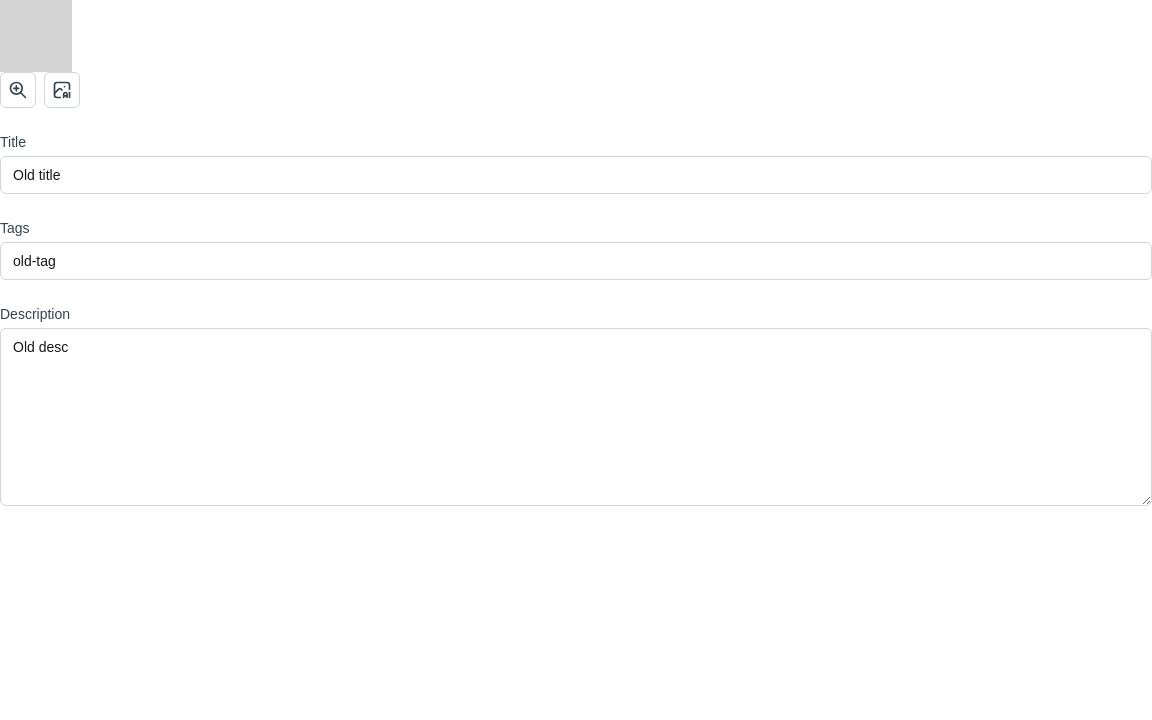
Scenario: ImageAiMetaSection › 成功后再点会重新打开确认，下拉为页面语言
Click the button named "AI recognize" at (62, 90), box [44,72,80,108]
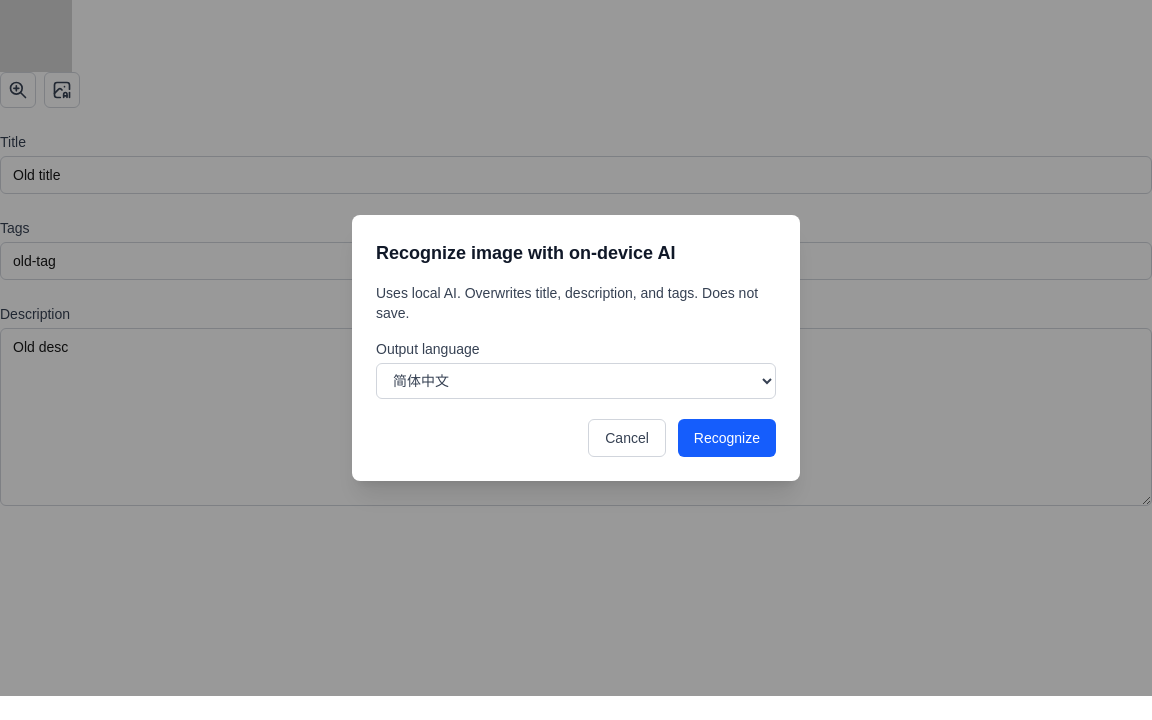
Select "English" in the dropdown labelled "Output language" at (576, 381), box [376,363,776,399]
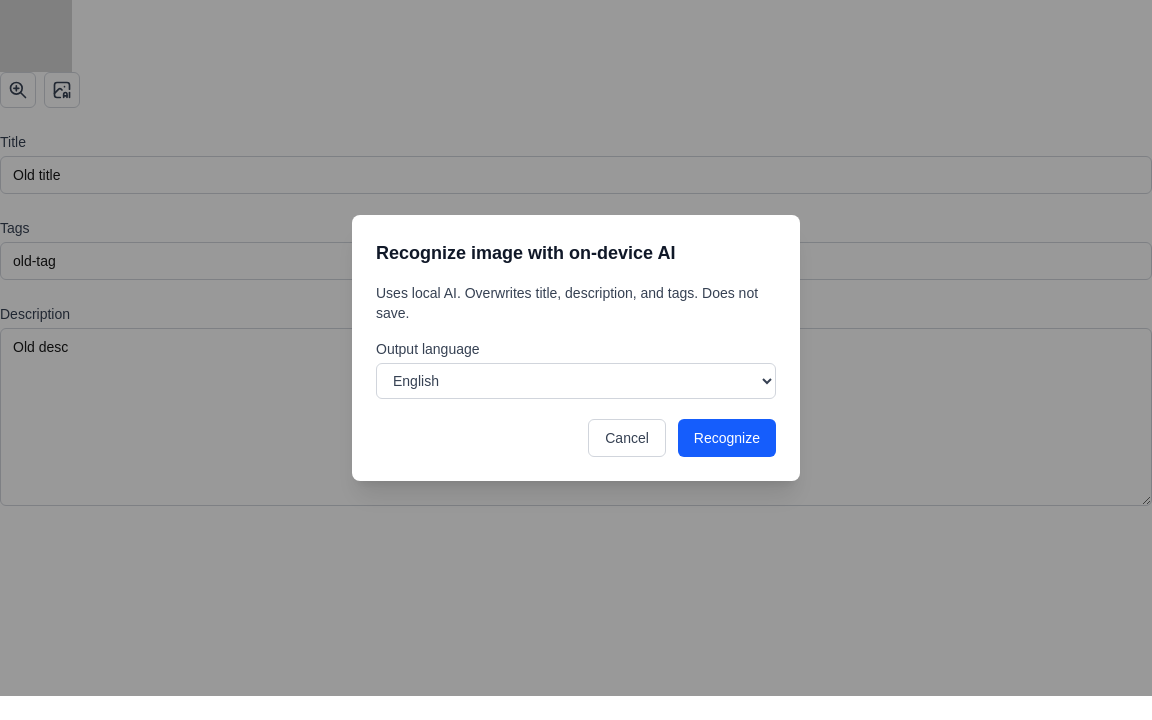
Click the button "Recognize" at (727, 438), box [678,419,776,457]
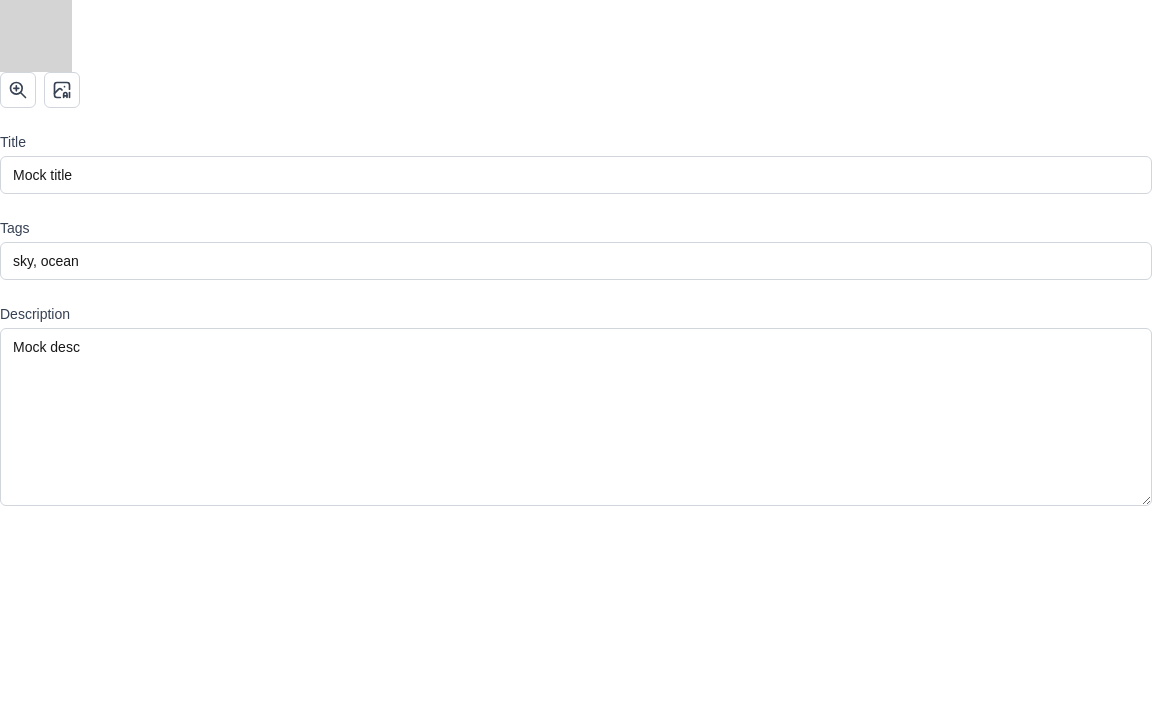
Expected: the field showing "Mock title" below "Title" is shown, [0,156,1151,194]
Click the button named "AI recognize" at (62, 90), box [44,72,80,108]
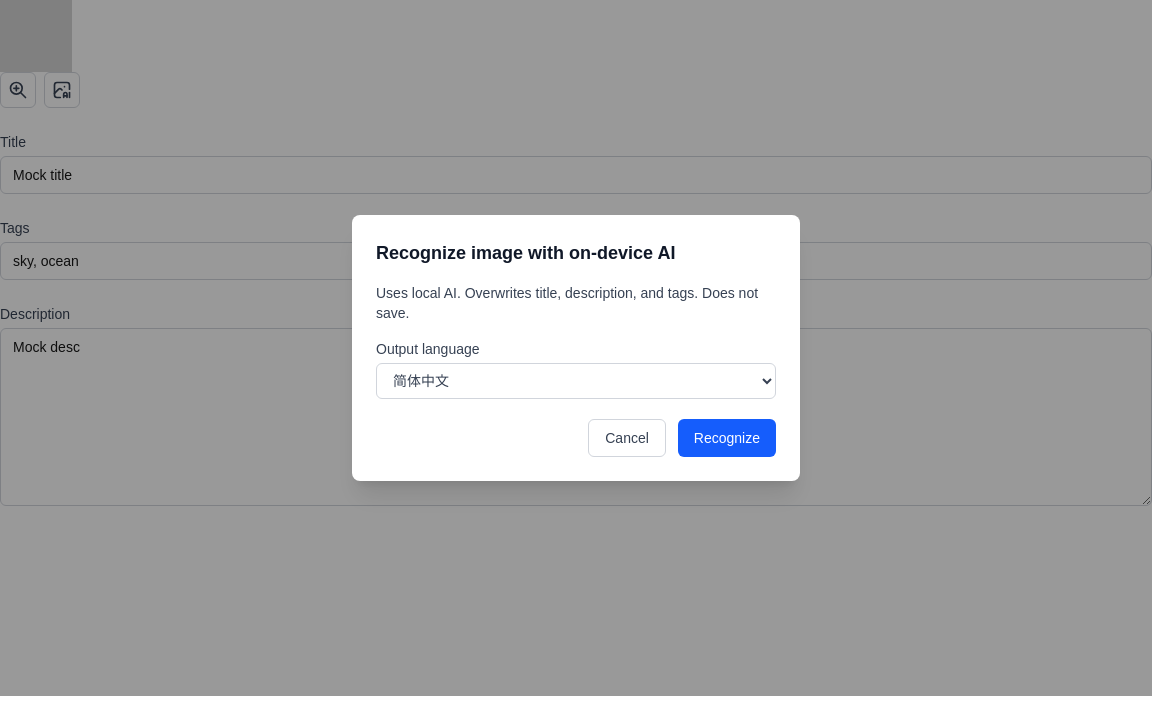
Expected: the dialog "Recognize image with on-device AI" is shown, [352,215,800,481]
Expected: the dropdown labelled "Output language" shows "简体中文", [376,363,776,399]
